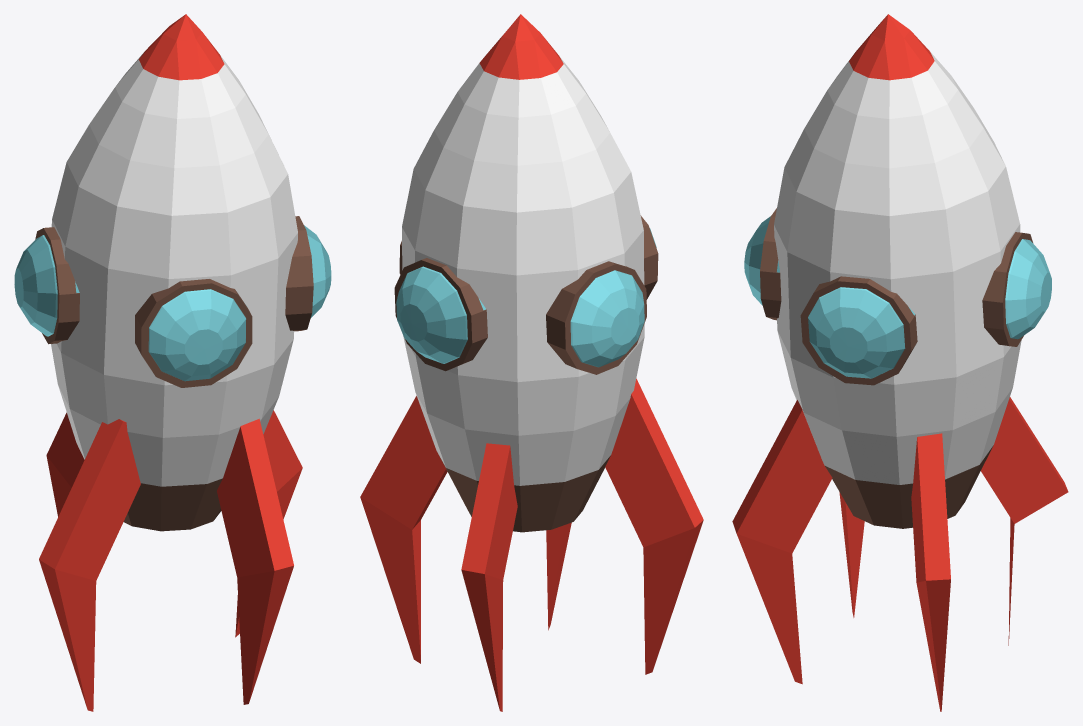
File: RocketFLY.glb
3 views of the same model, side by side, from view 1: azimuth 30°, elevation 25°; view 2: azimuth 150°, elevation 25°; view 3: azimuth 270°, elevation 25° (orthographic).
Visible parts, largest first — view 1: Node; view 2: Node; view 3: Node.
Boxes of the visible parts, x1,y1,x2,y2 form: Node: (14, 14, 331, 711); Node: (360, 14, 703, 711); Node: (732, 14, 1068, 711).
Bounding box in the file's own units: 1.6 × 3.41 × 1.57.
